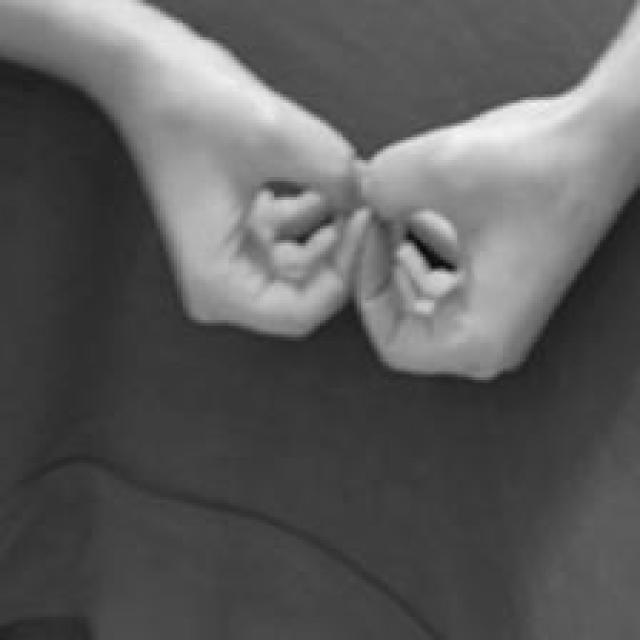B: (135, 14, 604, 382)
